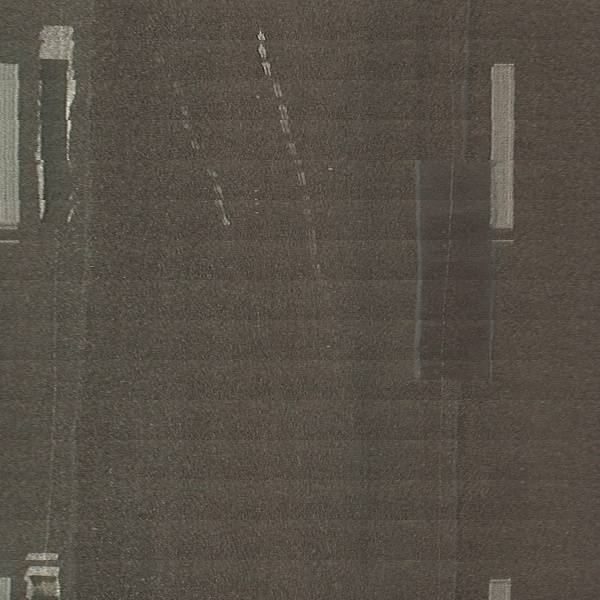road_damage: (406, 156, 503, 389)
